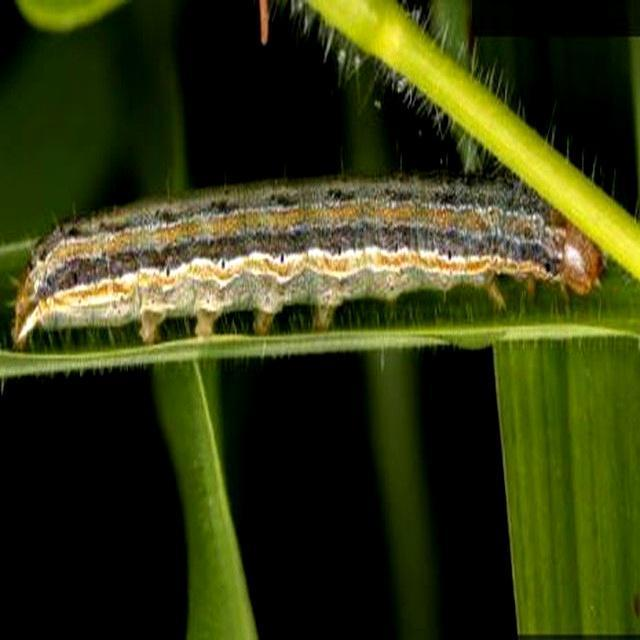gusano_cogollero: (8, 163, 606, 354)
